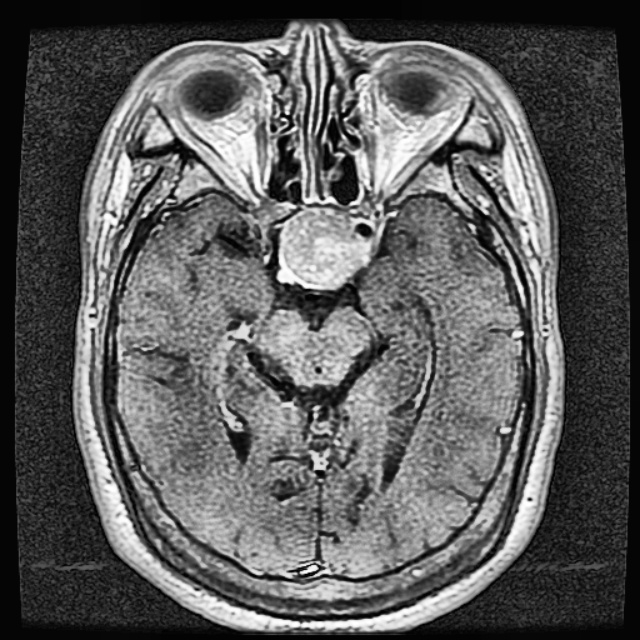Pituitary: (282, 204, 367, 287)
